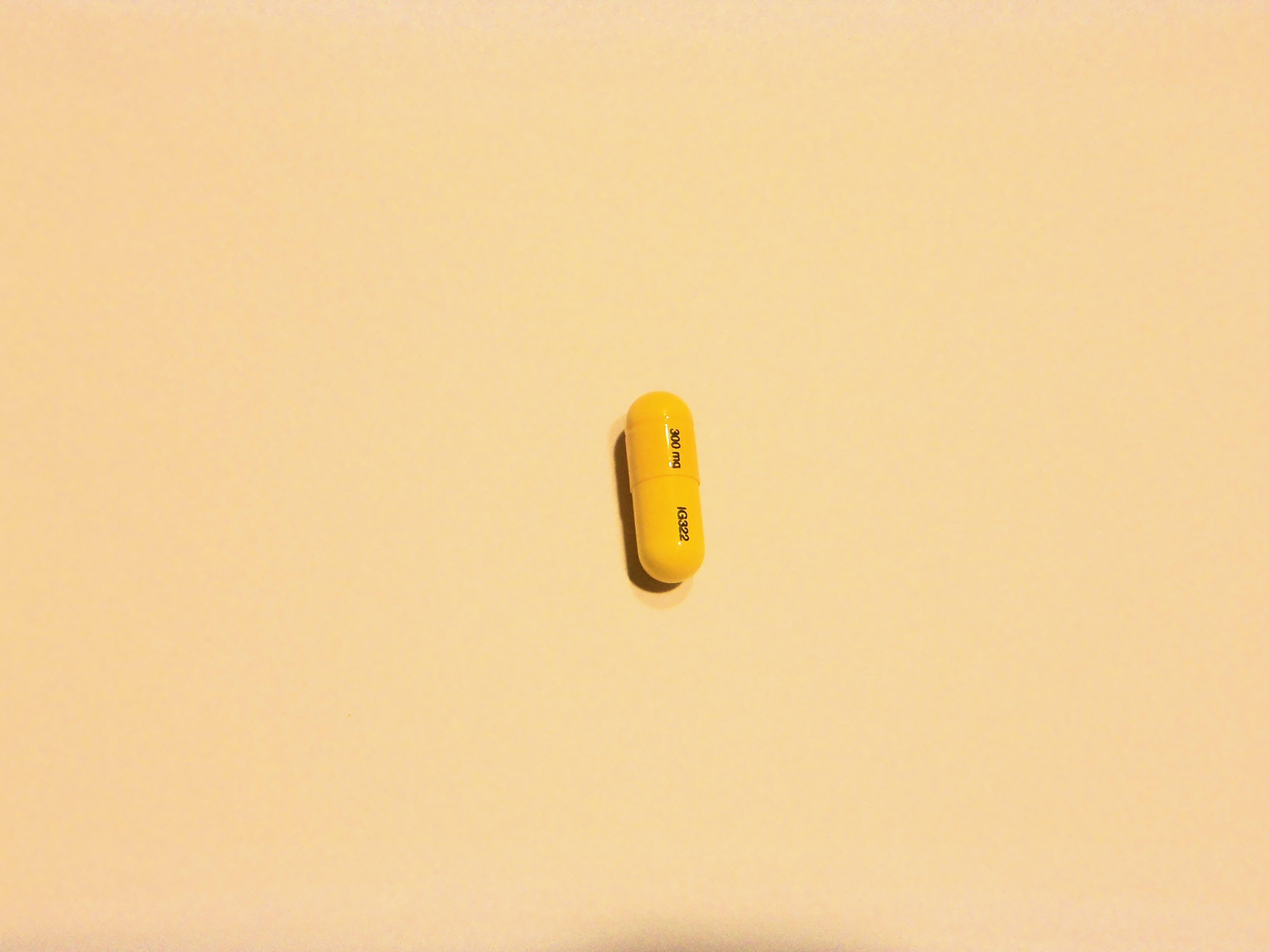Pill: (611, 376, 718, 602)
